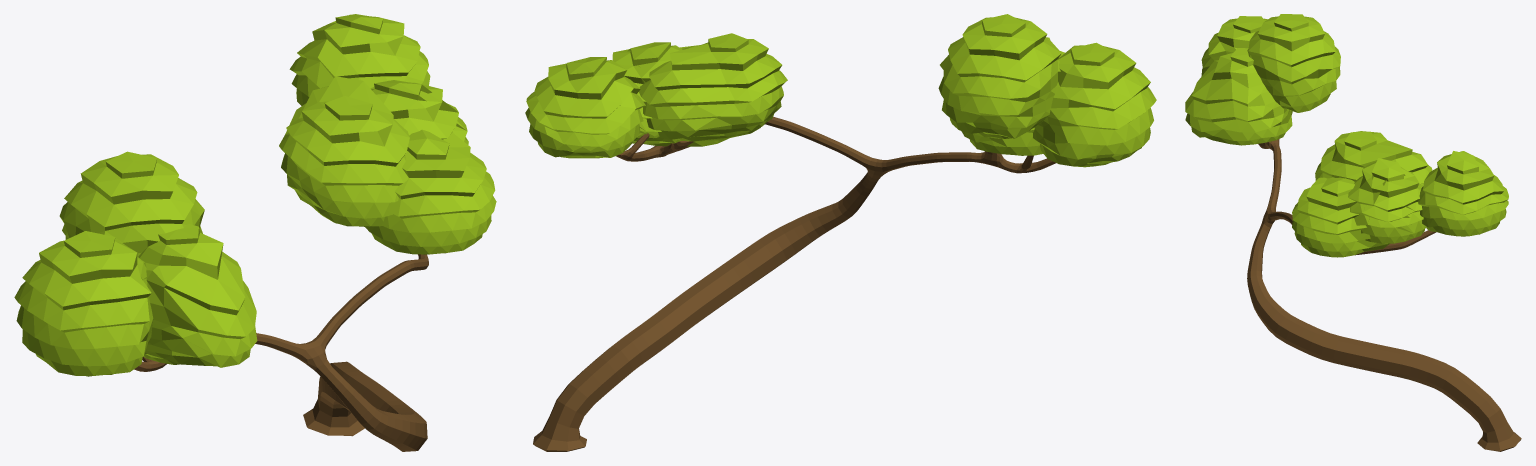
File: tree3.fbx
3 renders of one model, left to right at view 1: azimuth 30°, elevation 25°; view 2: azimuth 150°, elevation 25°; view 3: azimuth 270°, elevation 25°, orthographic. The views are drawn at different scales.
Parts seen in each view (by area): view 1: Icosphere.001, Cube; view 2: Icosphere.001, Cube; view 3: Icosphere.001, Cube.
Part boxes in pixels (<box>): Icosphere.001: <box>14,14,496,376</box>; Cube: <box>134,254,428,451</box>; Icosphere.001: <box>525,14,1156,167</box>; Cube: <box>533,117,1055,451</box>; Icosphere.001: <box>1185,14,1508,257</box>; Cube: <box>1247,139,1521,451</box>.
Bounding box in the file's own units: 2535 × 2023 × 2005.
